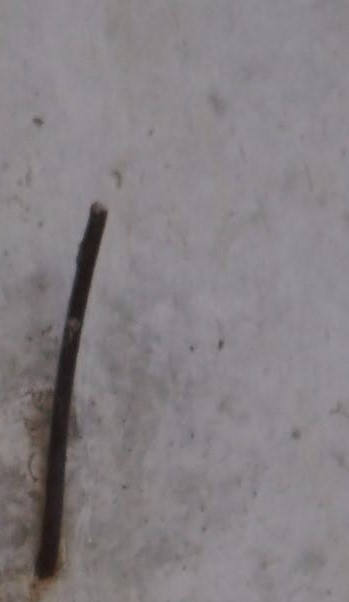Exposed reinforcement: (35, 201, 110, 579)
